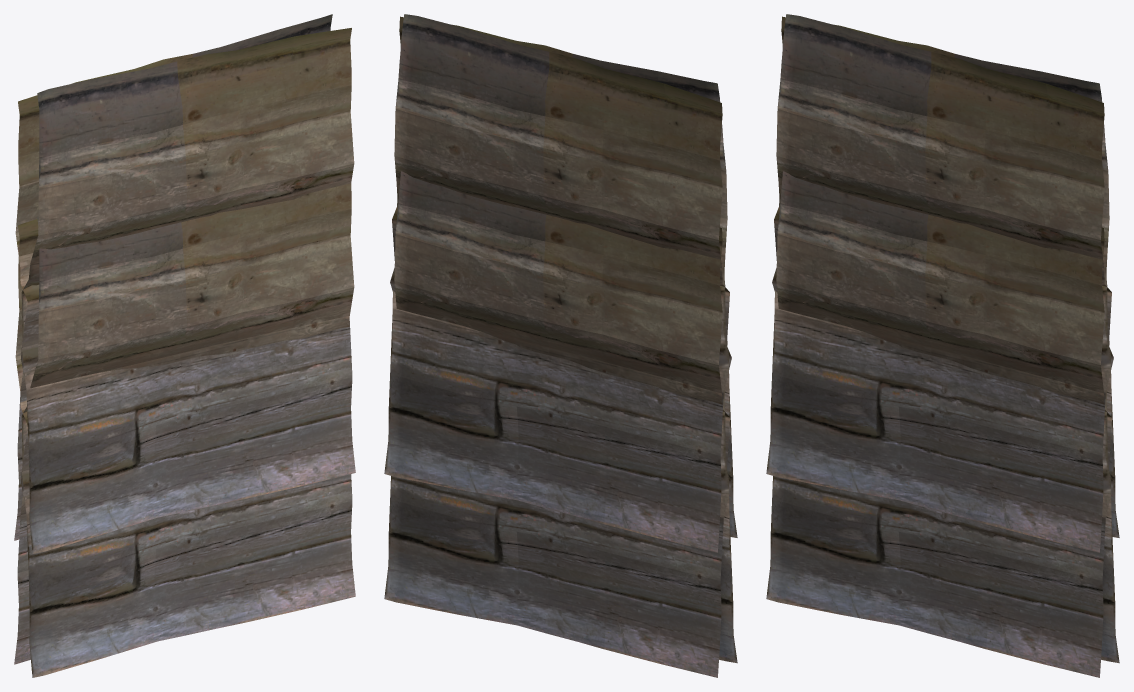
Rendered from LogWall3.fbx.
The picture shows the model from 3 angles, left to right: view 1: azimuth 30°, elevation 25°; view 2: azimuth 150°, elevation 25°; view 3: azimuth 330°, elevation 25°; orthographic projection.
Visible parts, largest first — view 1: Group_0_Sub_0__sm60_008_LogWall_A_Mat__Env_Default; view 2: Group_0_Sub_0__sm60_008_LogWall_A_Mat__Env_Default; view 3: Group_0_Sub_0__sm60_008_LogWall_A_Mat__Env_Default.
Part boxes in pixels (x1,y1,x2,y2): Group_0_Sub_0__sm60_008_LogWall_A_Mat__Env_Default: [14, 14, 355, 677]; Group_0_Sub_0__sm60_008_LogWall_A_Mat__Env_Default: [384, 14, 737, 677]; Group_0_Sub_0__sm60_008_LogWall_A_Mat__Env_Default: [766, 14, 1119, 677].
Size of the model in its own units: 135 by 226 by 15.8.
